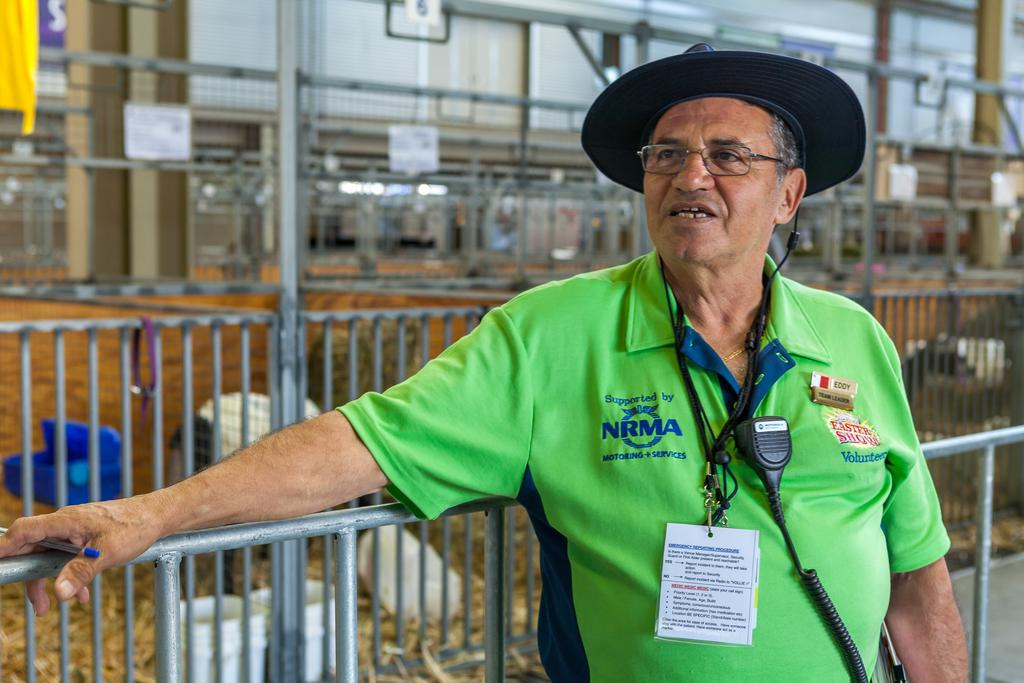Hat: (580, 41, 866, 528)
